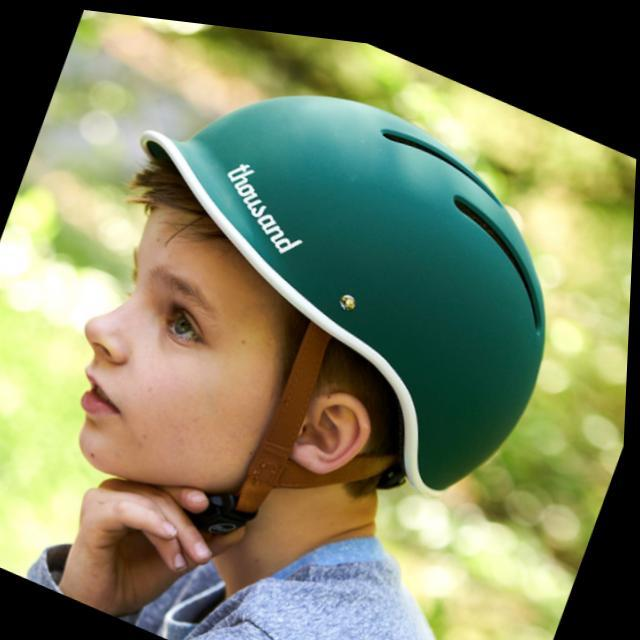Helmet: (74, 92, 548, 498)
